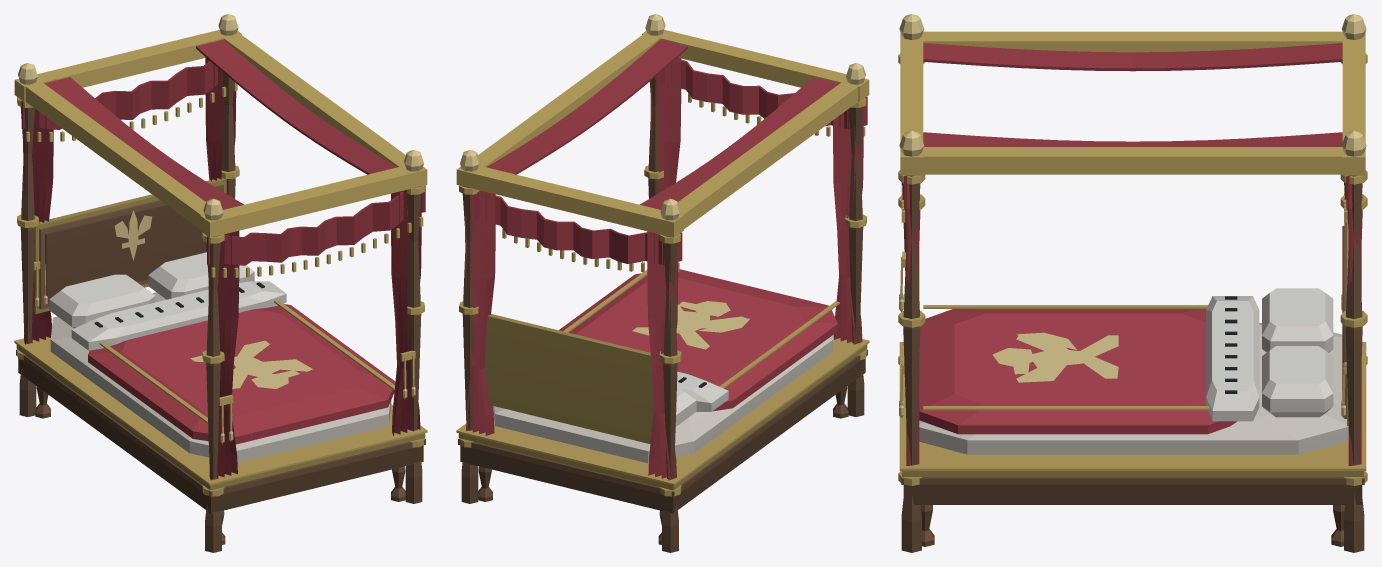
Rendered from palace_bed_royal.glb.
3 views of the same model, side by side, from view 1: azimuth 30°, elevation 25°; view 2: azimuth 150°, elevation 25°; view 3: azimuth 270°, elevation 25° (orthographic). The views are drawn at different scales.
Parts seen in each view (by area): view 1: palace_bed_royal; view 2: palace_bed_royal; view 3: palace_bed_royal.
Part boxes in pixels (x1,y1,x2,y2): palace_bed_royal: [14, 14, 427, 552]; palace_bed_royal: [456, 14, 869, 552]; palace_bed_royal: [898, 14, 1367, 552].
Bounding box in the file's own units: 1.82 × 2.77 × 2.82.
